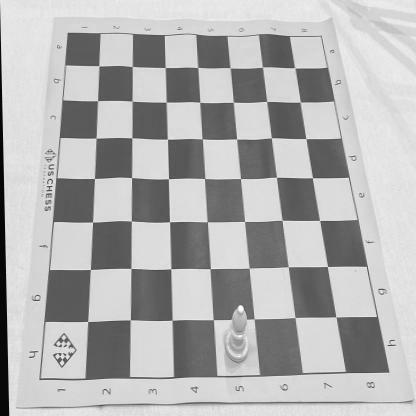white-bishop: (223, 305, 248, 364)
